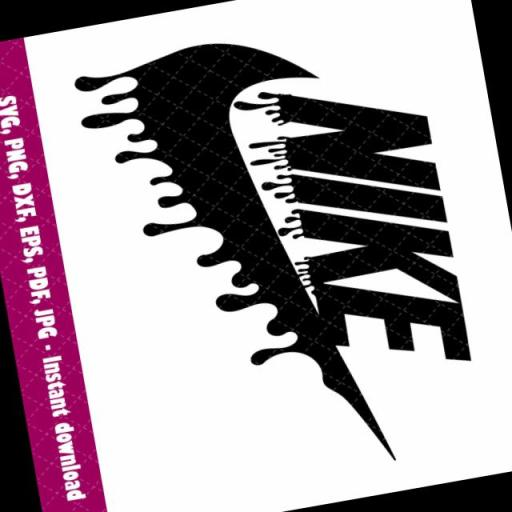Nike: (130, 36, 334, 406), (270, 70, 472, 389)
